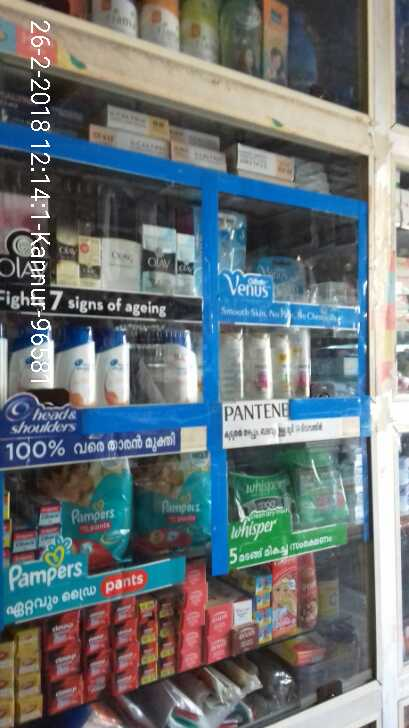venus: (257, 258, 304, 298), (222, 212, 245, 275)
